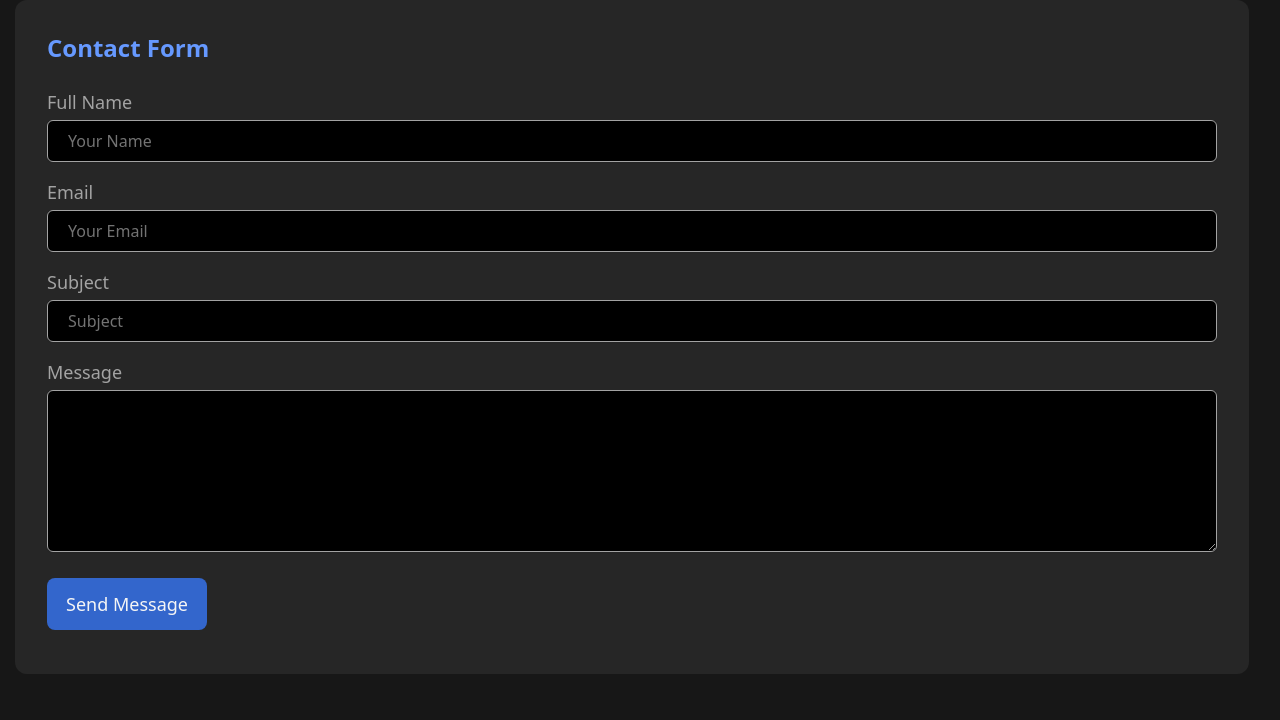
Scenario: ContactForm › disables the button and shows Sending… while submitting
The image size is (1280, 720).
Type "Alice" into the field labelled "Full Name". click: [632, 141]
box: left=47, top=120, right=1217, bottom=162
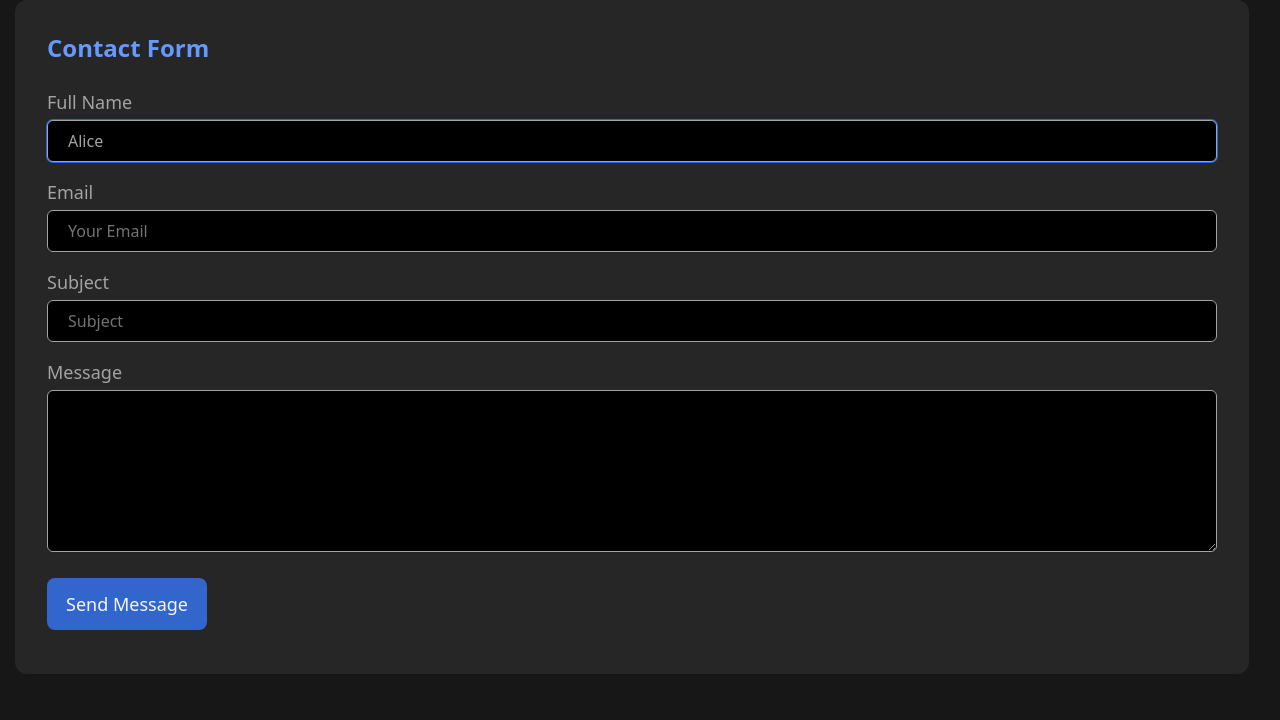
Type "alice@example.com" into the field labelled "Email". click: [632, 231]
box: left=47, top=210, right=1217, bottom=252
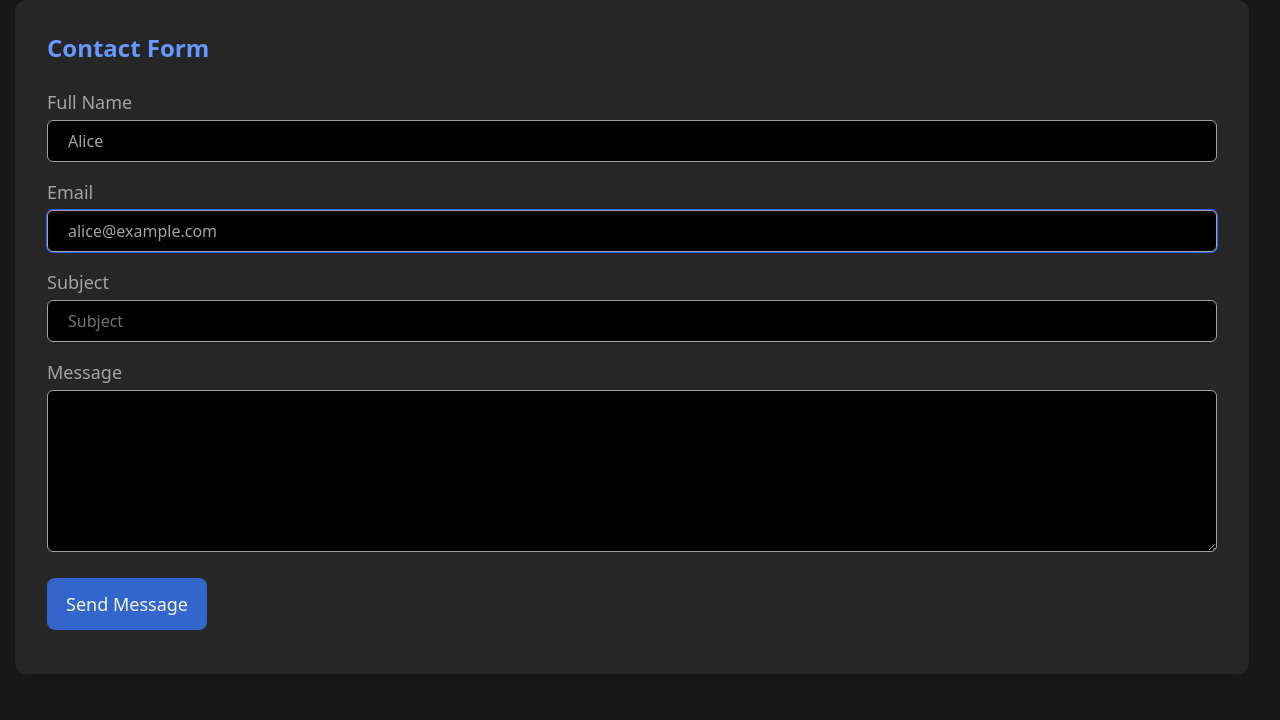
Type "Hi" into the field labelled "Subject". click: [632, 321]
box: left=47, top=300, right=1217, bottom=342
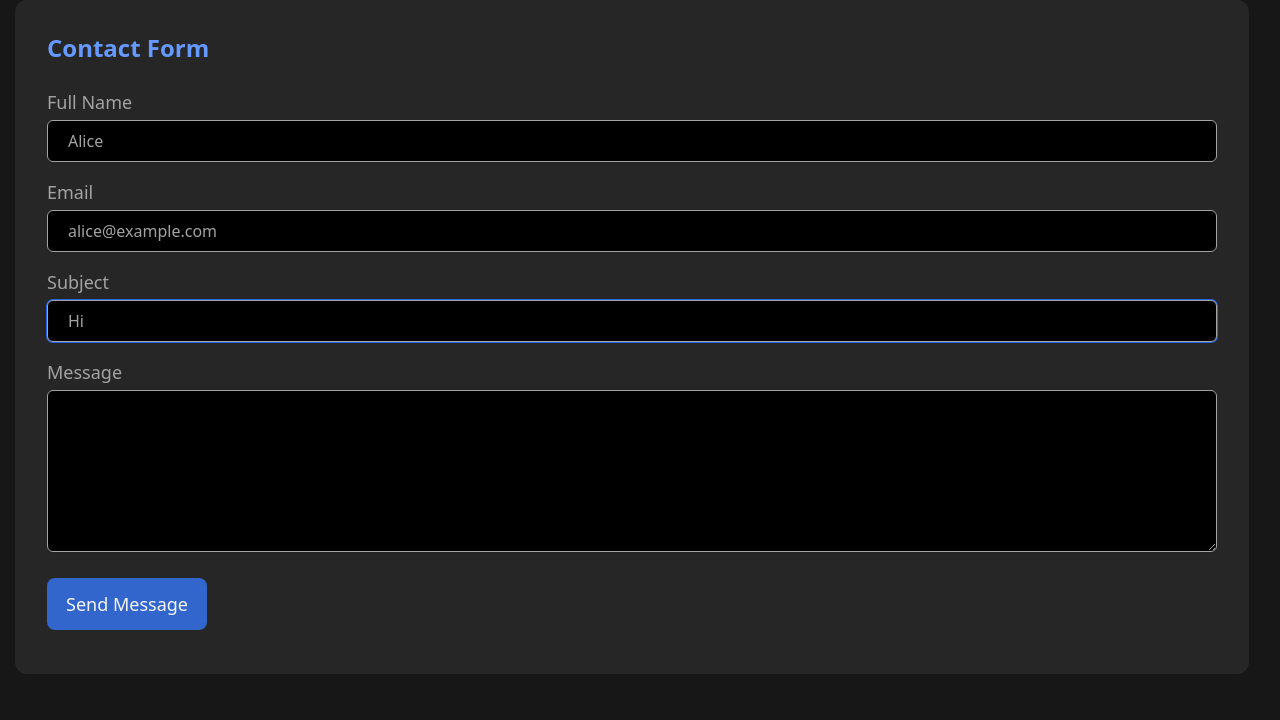
Type "Hello" into the text box labelled "Message". click: [632, 471]
box: left=47, top=390, right=1217, bottom=552
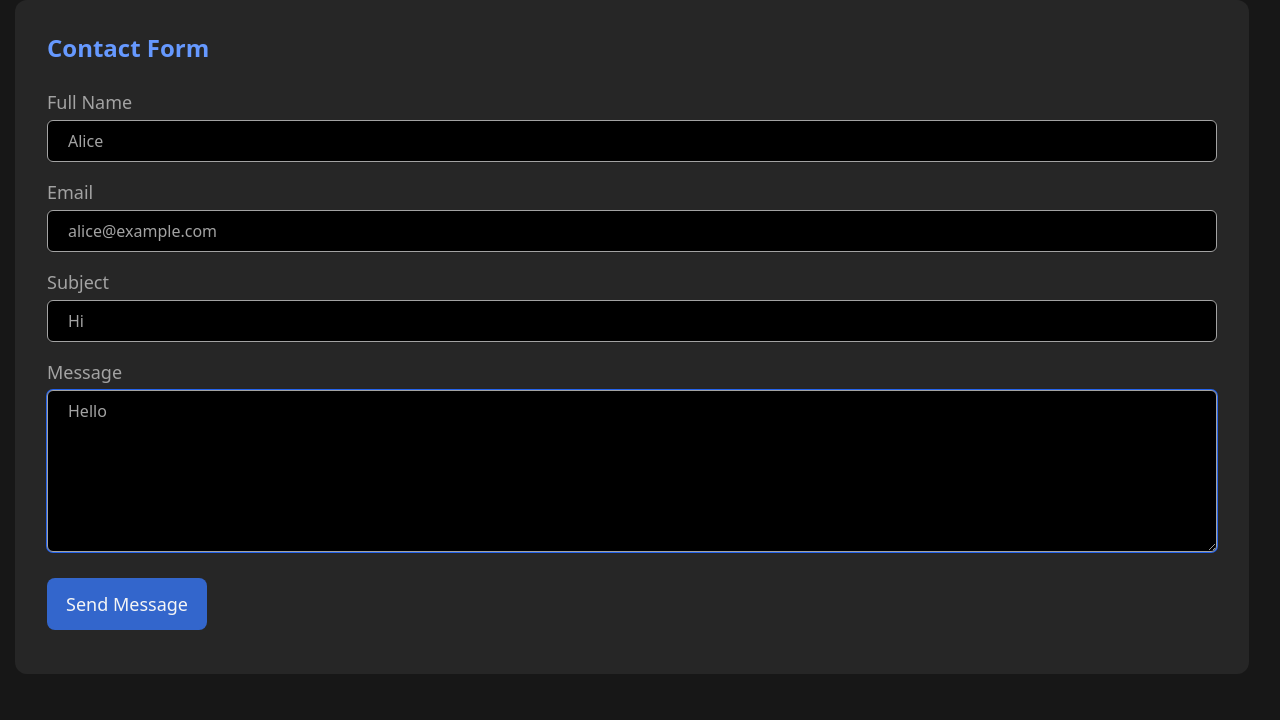
Click the button "Send Message". click: [127, 604]
box: left=47, top=578, right=207, bottom=630
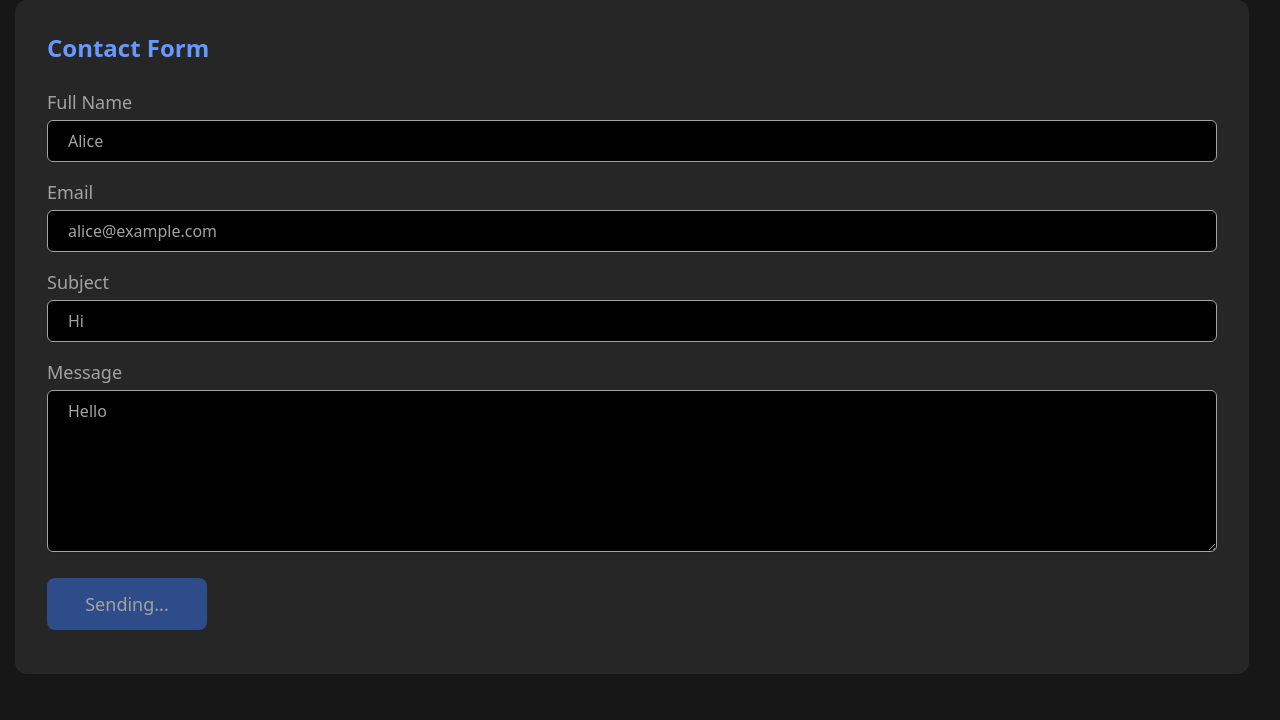
Expected: the button with aria-label "Send Message" is disabled, left=47, top=578, right=207, bottom=630
Expected: the text "Sending..." is shown, left=85, top=590, right=169, bottom=618
